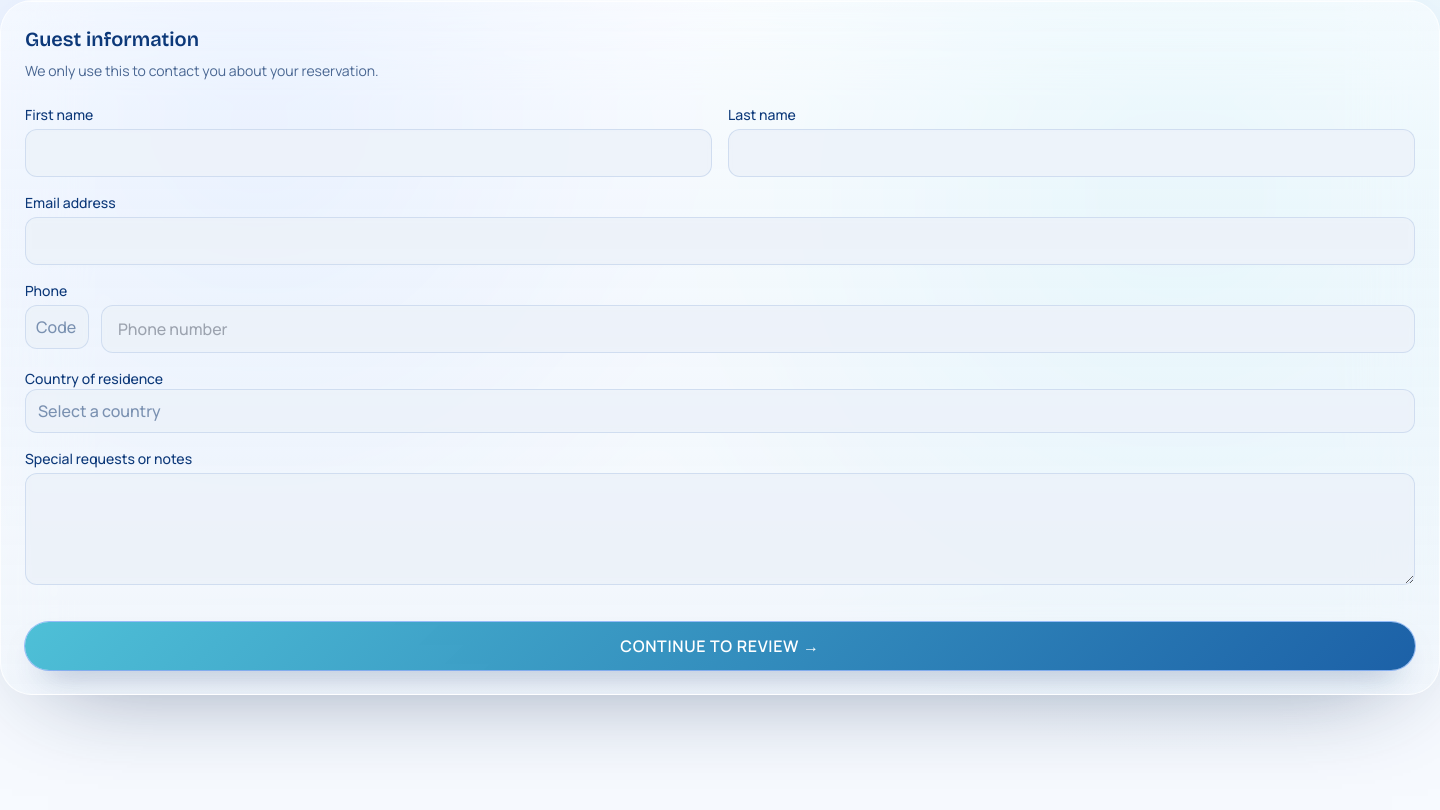
Scenario: GuestInformationStep — validation on empty submit › shows error for empty first name
Click the button "Continue to review →" at (720, 646), box x1=25 y1=622 x2=1415 y2=670
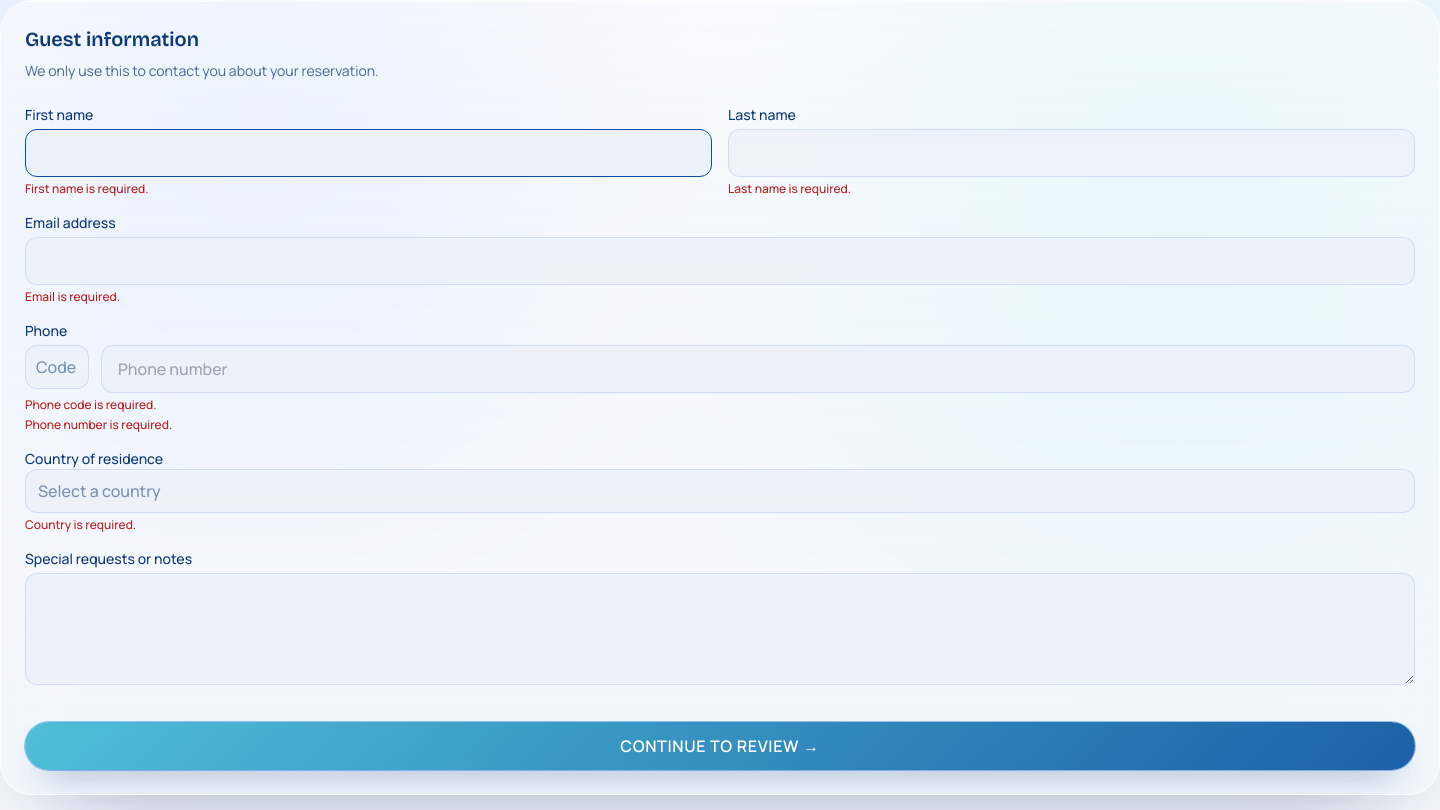
Now the message "First name is required." is shown, box x1=25 y1=180 x2=148 y2=197
